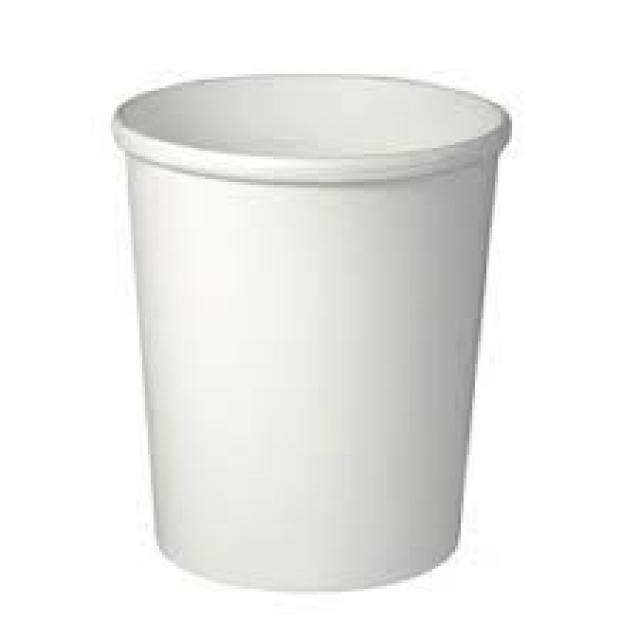PaperCardboard: (105, 70, 512, 593)
